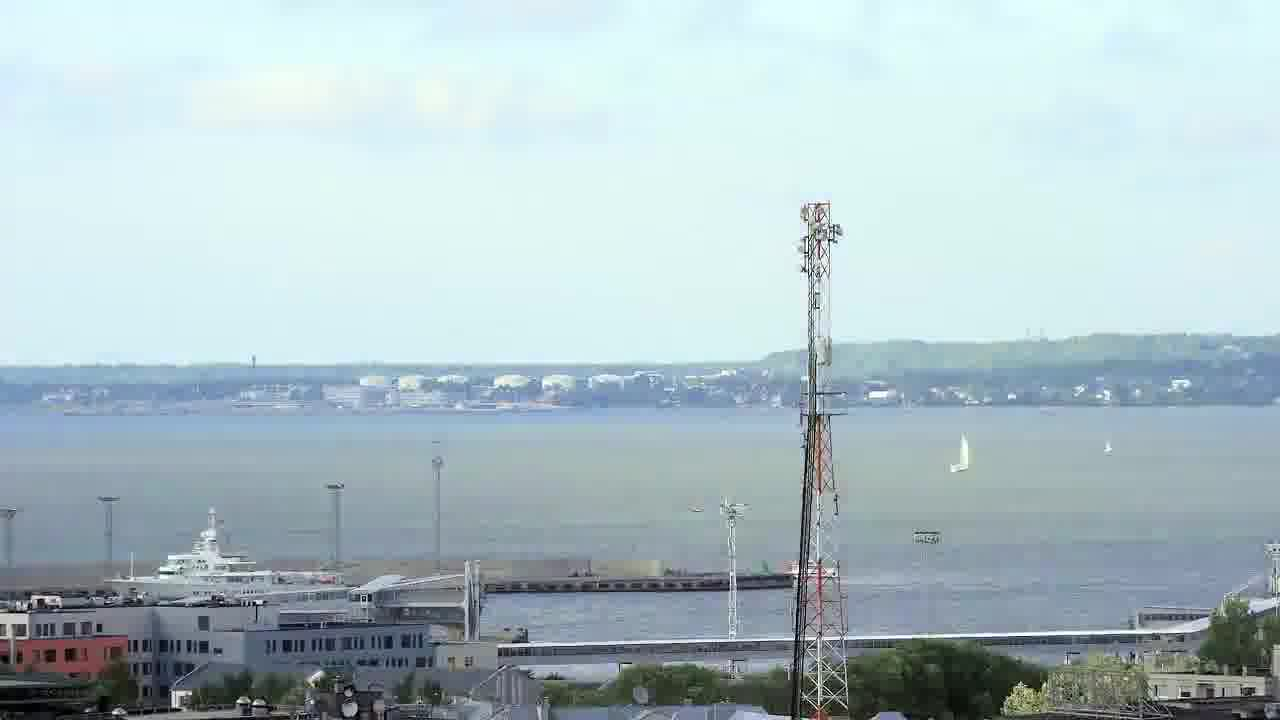type-2: (927, 420, 996, 486)
type-3: (84, 515, 355, 603)
